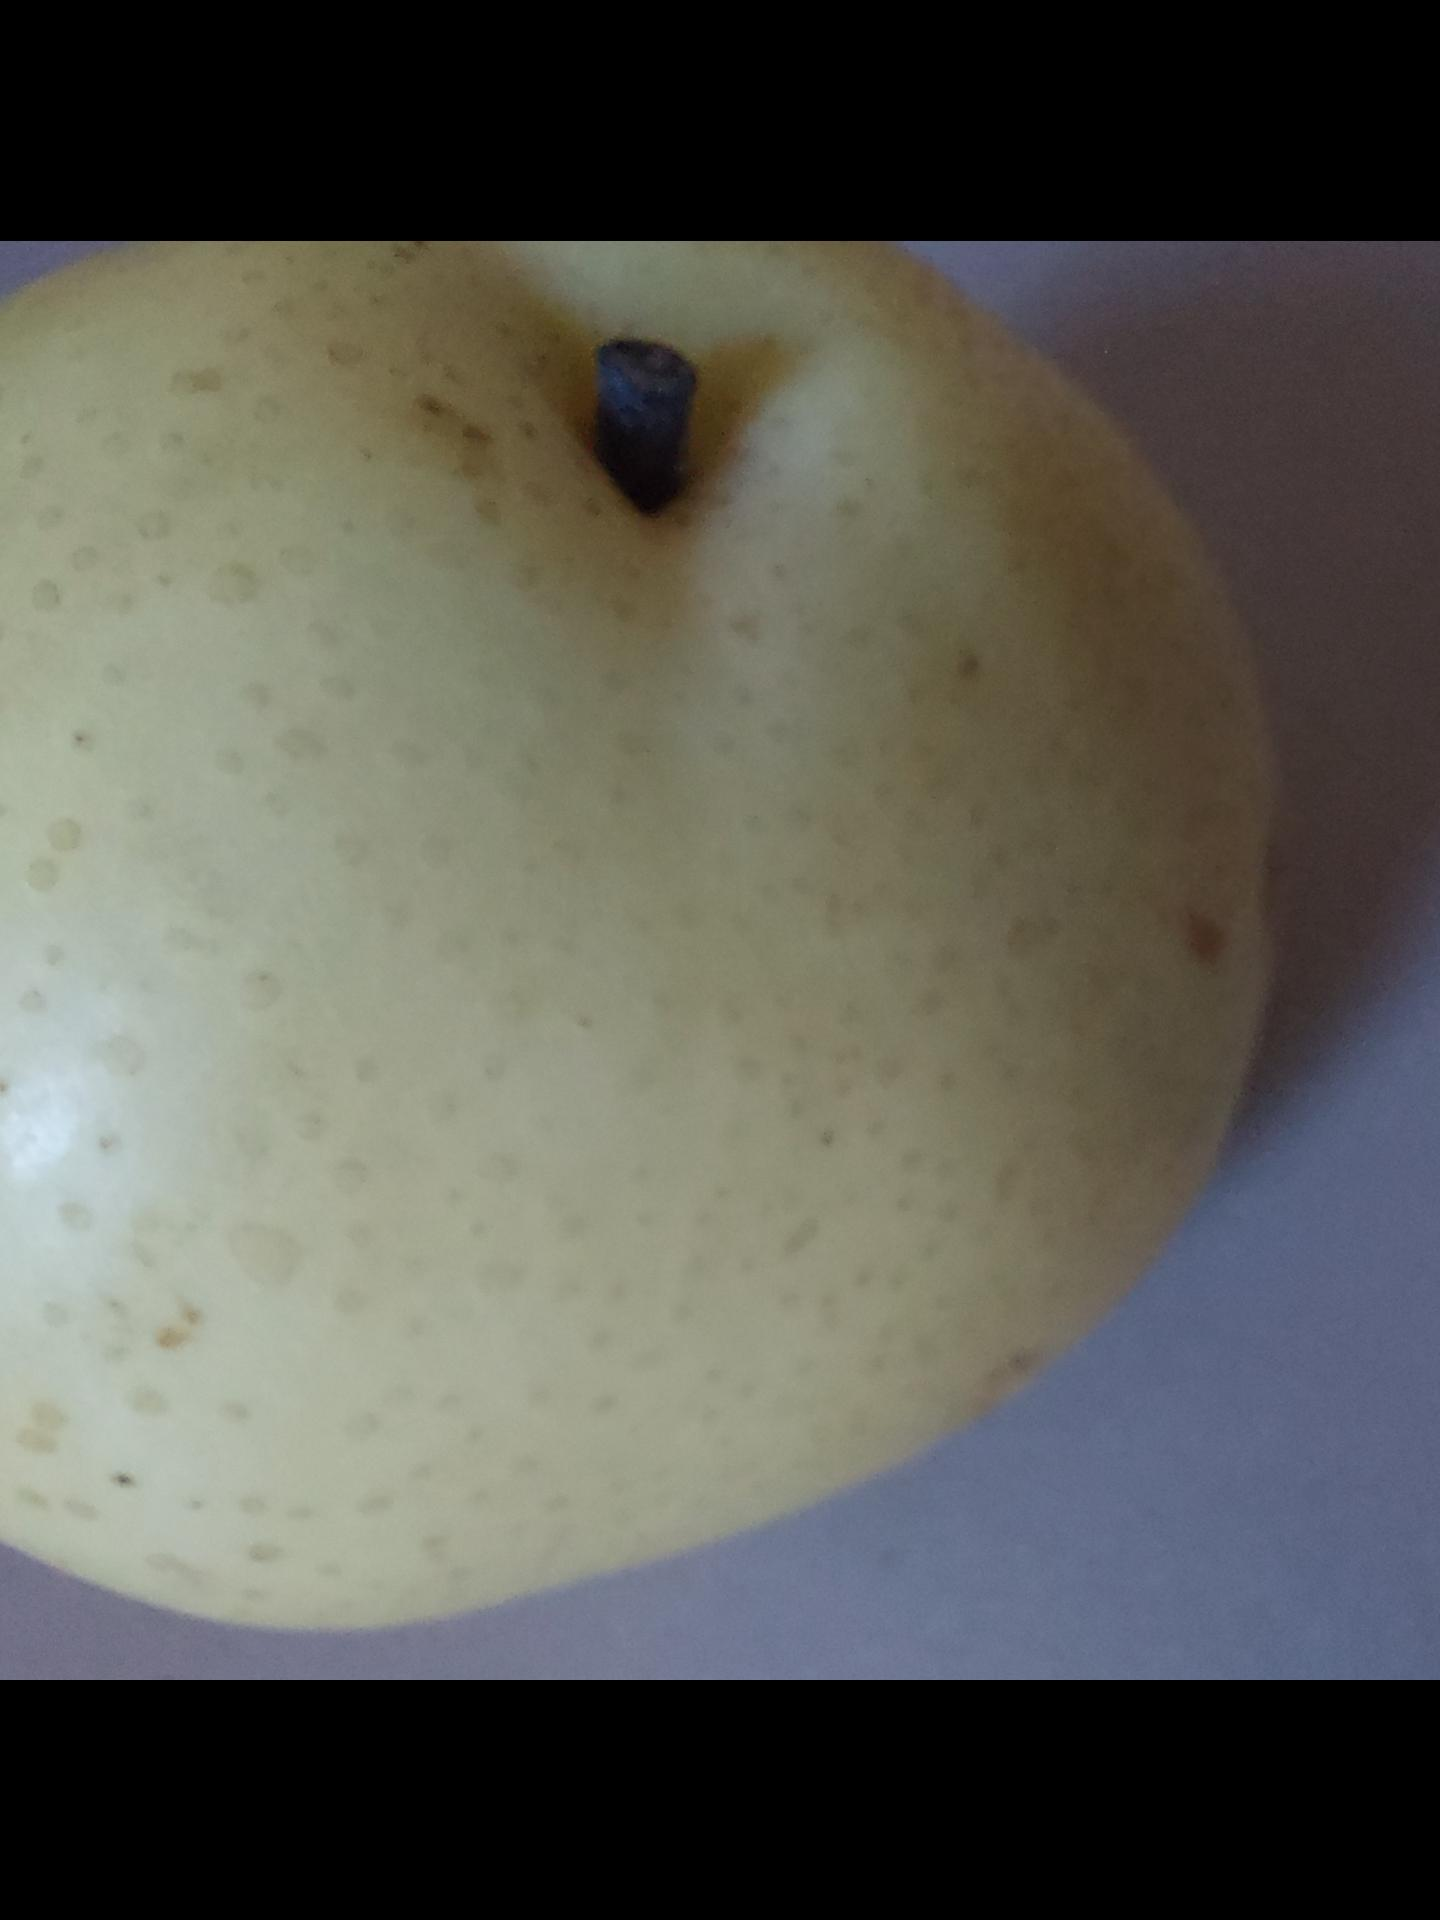Good Pear: (0, 240, 1363, 1680)
